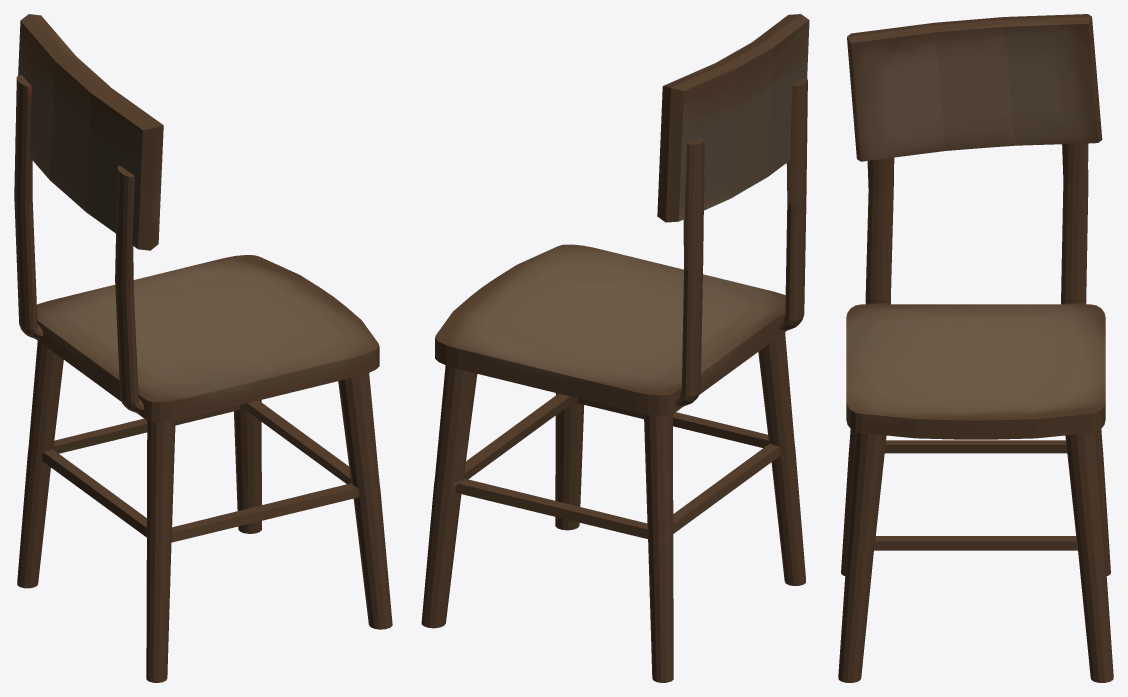
Rendered from Chair.fbx.
3 renders of one model, left to right at view 1: azimuth 30°, elevation 25°; view 2: azimuth 150°, elevation 25°; view 3: azimuth 270°, elevation 25°, orthographic. The views are drawn at different scales.
Parts seen in each view (by area): view 1: Silla; view 2: Silla; view 3: Silla.
Boxes of the visible parts, x1,y1,x2,y2 form: Silla: [14, 14, 392, 682]; Silla: [421, 14, 809, 682]; Silla: [838, 14, 1113, 682].
Bounding box in the file's own units: 180 × 373 × 168.
